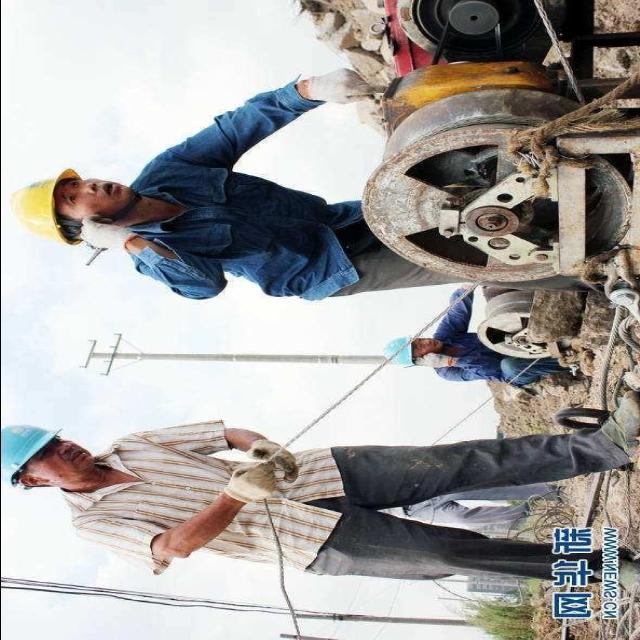helmet: (2, 154, 70, 250), (0, 410, 54, 492)
